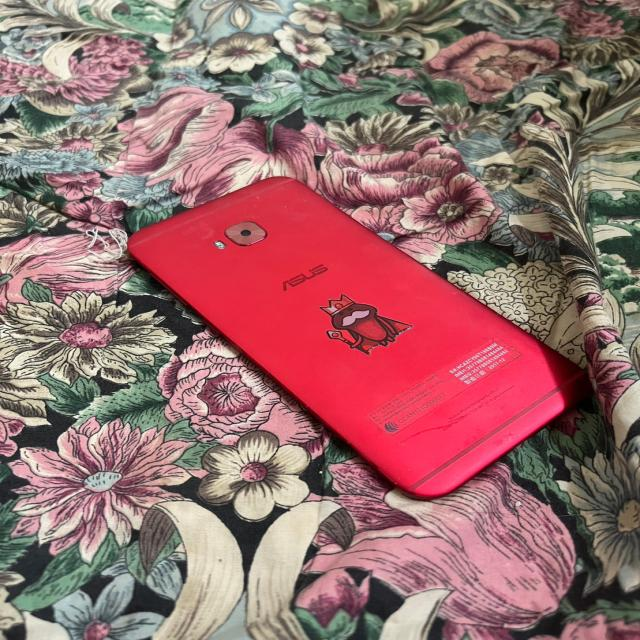Smartphone: (129, 177, 592, 499)
